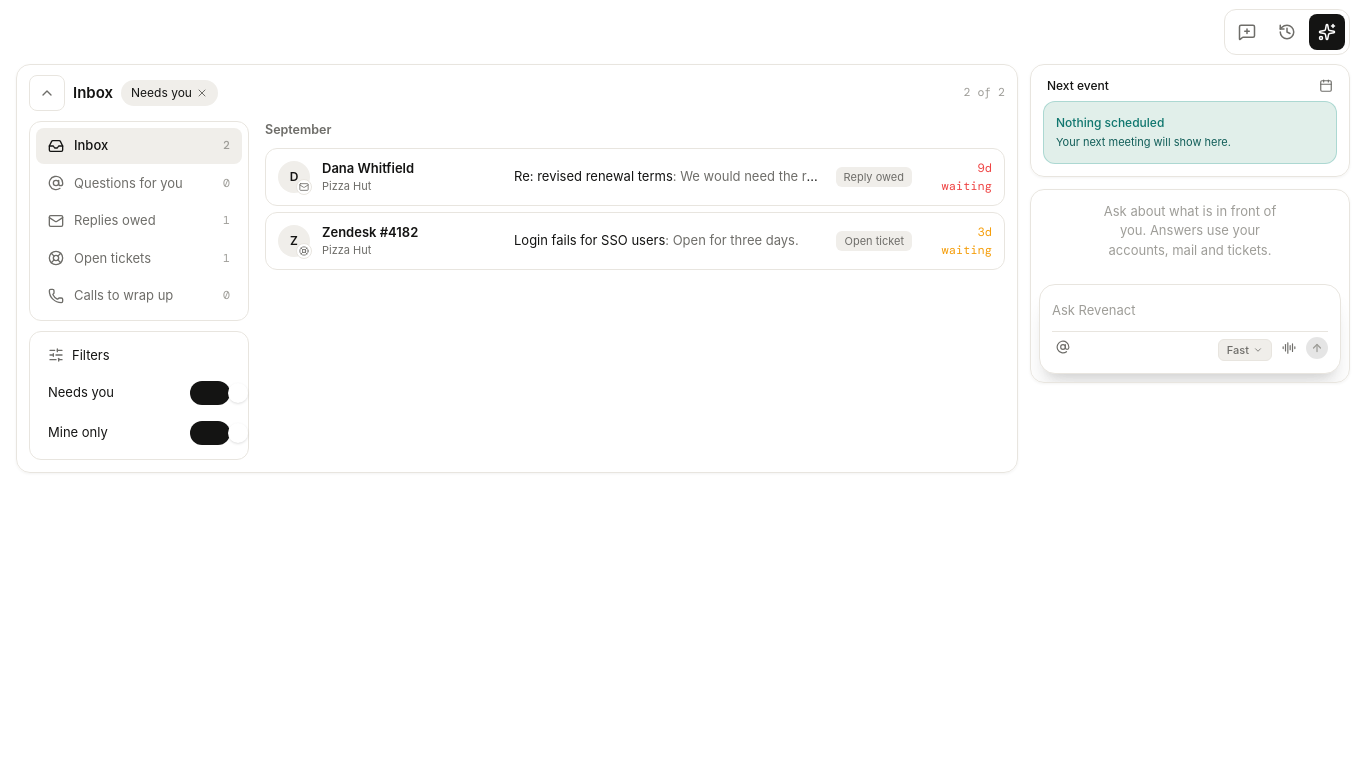
Test: CommunicationsPage › History opens as a panel of scheduled tasks and searchable, collapsible recents
Step 1. Click the button named "history" → (1287, 32), box [1269, 14, 1305, 50]
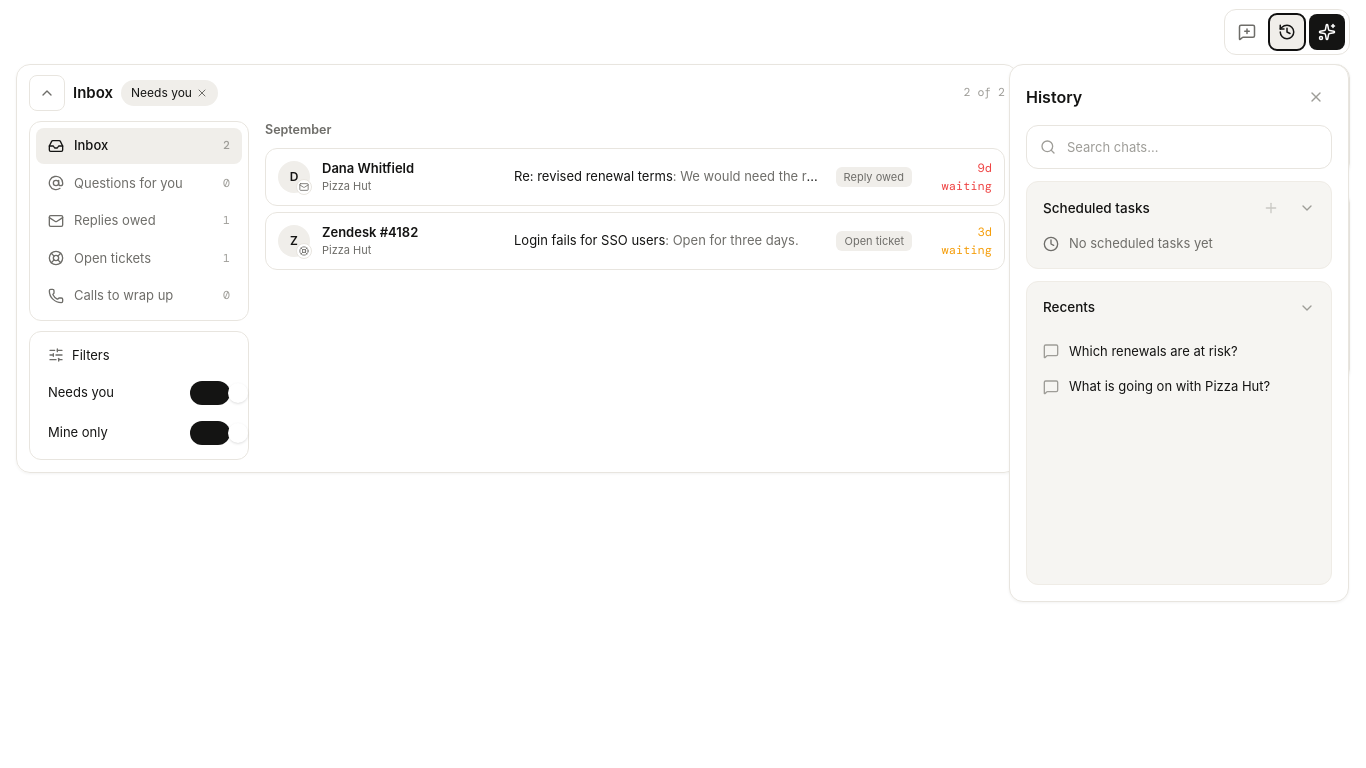
Expected: the text "No scheduled tasks yet" is shown, [1043, 235, 1213, 252]
Expected: the button named "new scheduled task" is disabled, [1255, 192, 1287, 224]
Expected: the text "Which renewals are at risk?" is shown, [1069, 342, 1238, 358]
Step 2. Type "pizza" into the search field with placeholder "Search chats…" → (1179, 147), box [1026, 125, 1332, 169]
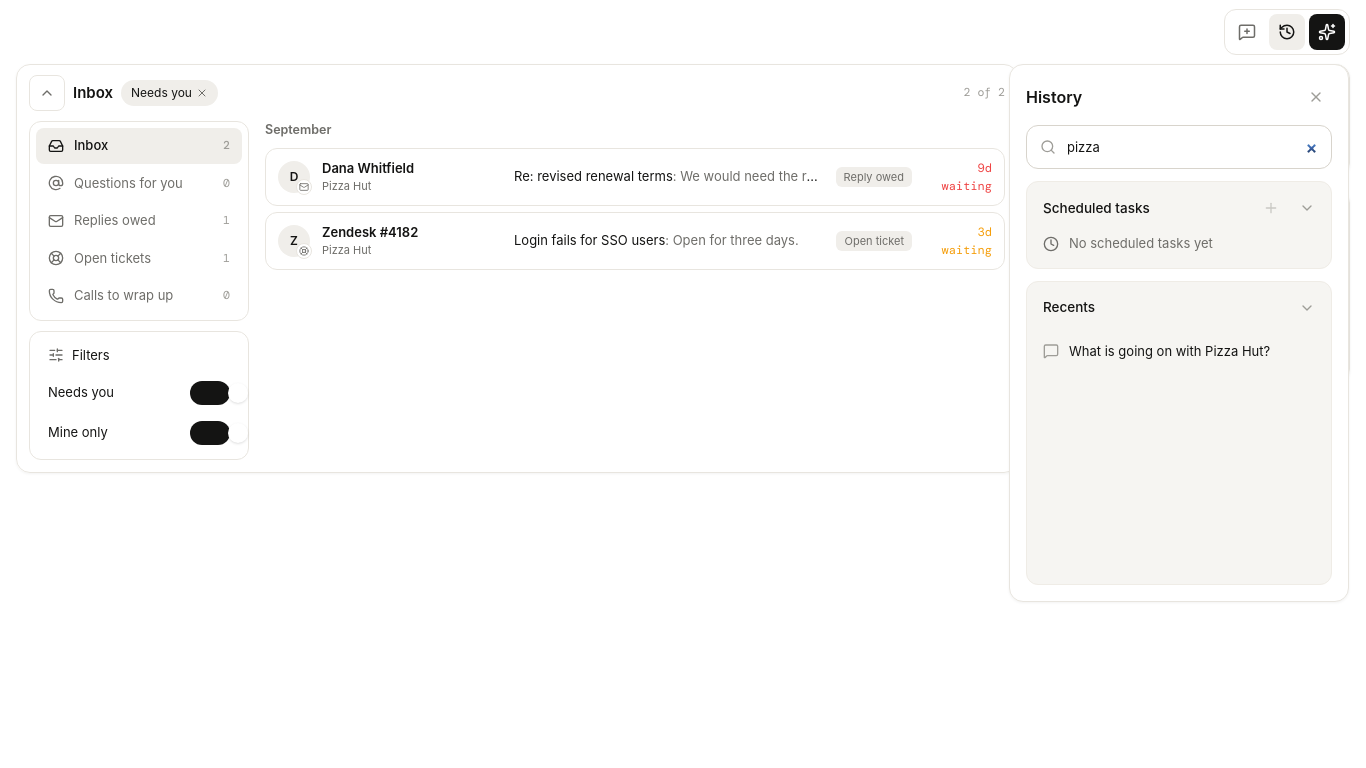
Expected: the text "What is going on with Pizza Hut?" is shown, [1069, 342, 1270, 358]
Expected: the button "Which renewals are at risk?" is gone
Step 3. Click the button named "collapse recents" → (1307, 308), box [1291, 292, 1323, 324]
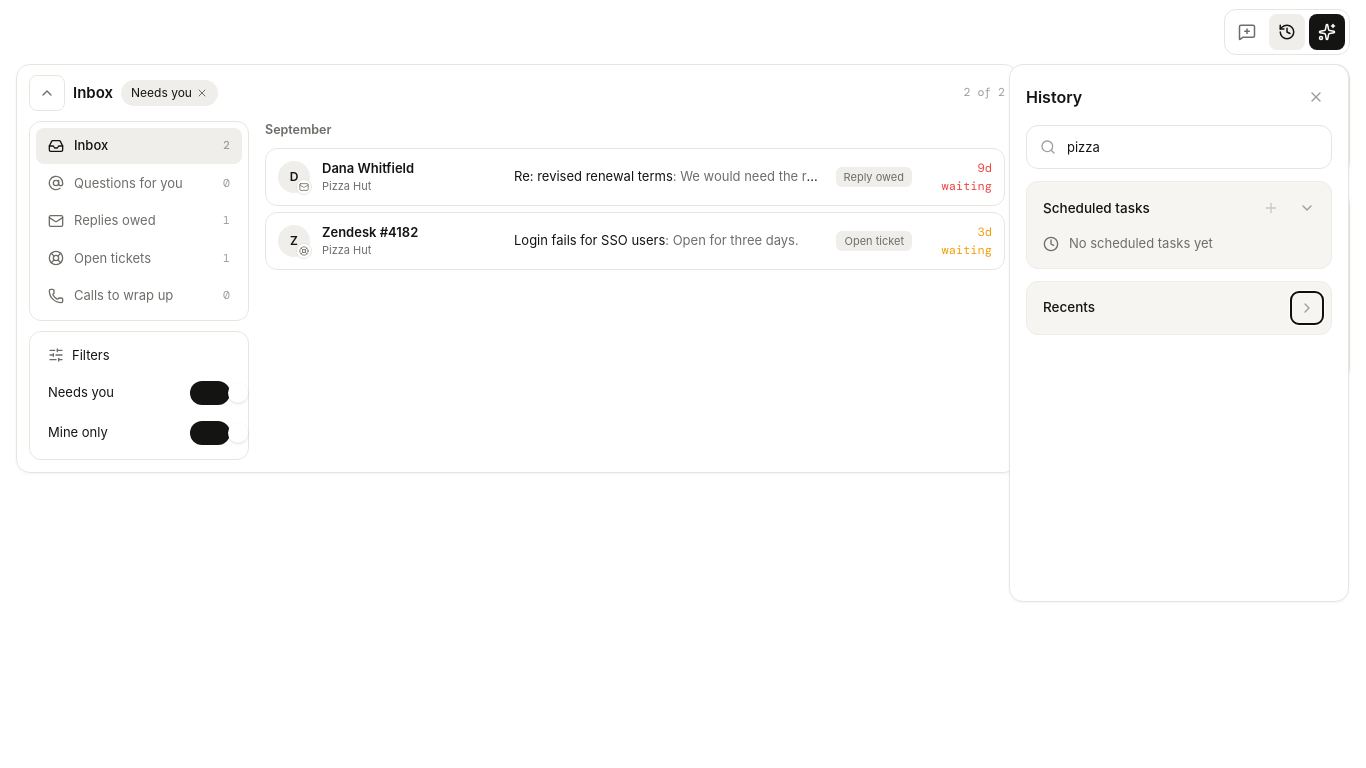
Expected: the button "What is going on with Pizza Hut?" is gone
Step 4. Click the button named "expand recents" → (1307, 308), box [1291, 292, 1323, 324]
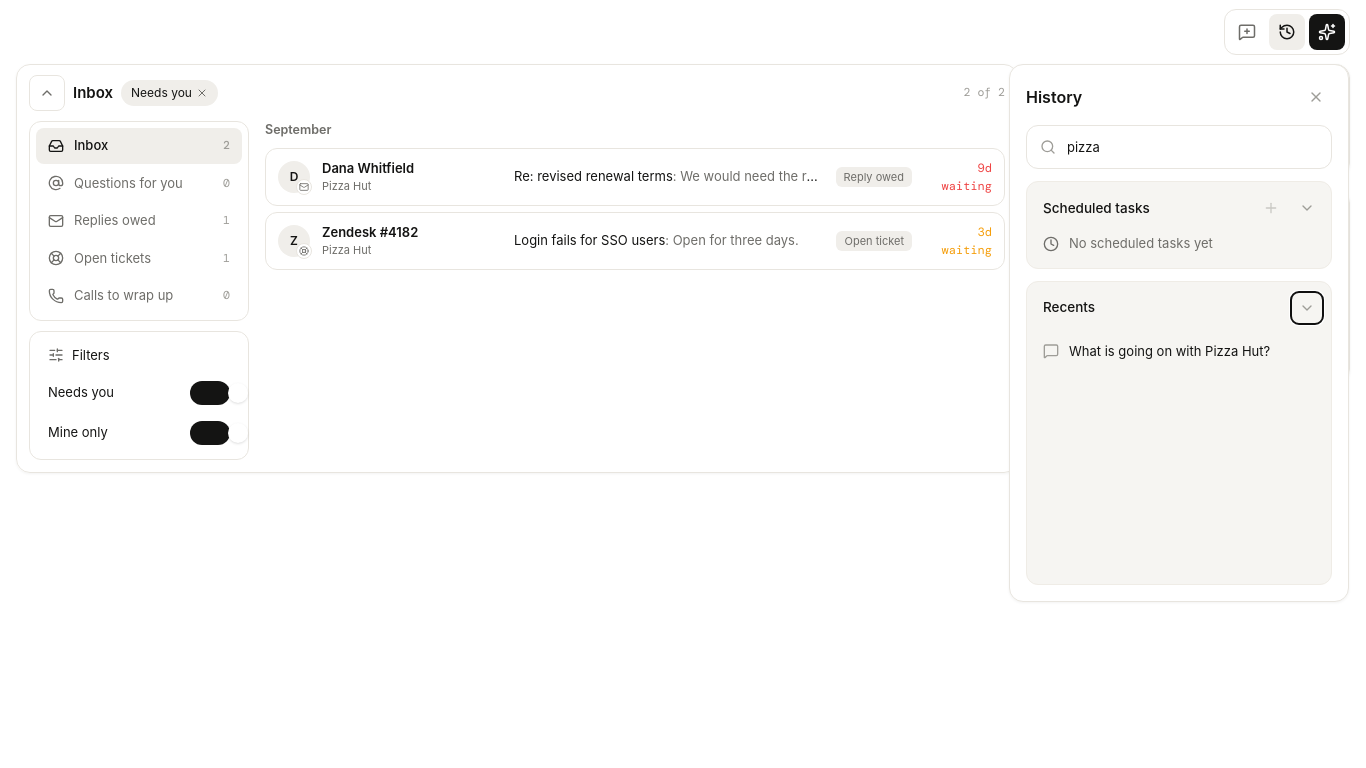
Expected: the text "What is going on with Pizza Hut?" is shown, [1069, 342, 1270, 358]
Step 5. Click the button named "close history" → (1316, 97), box [1300, 81, 1332, 113]
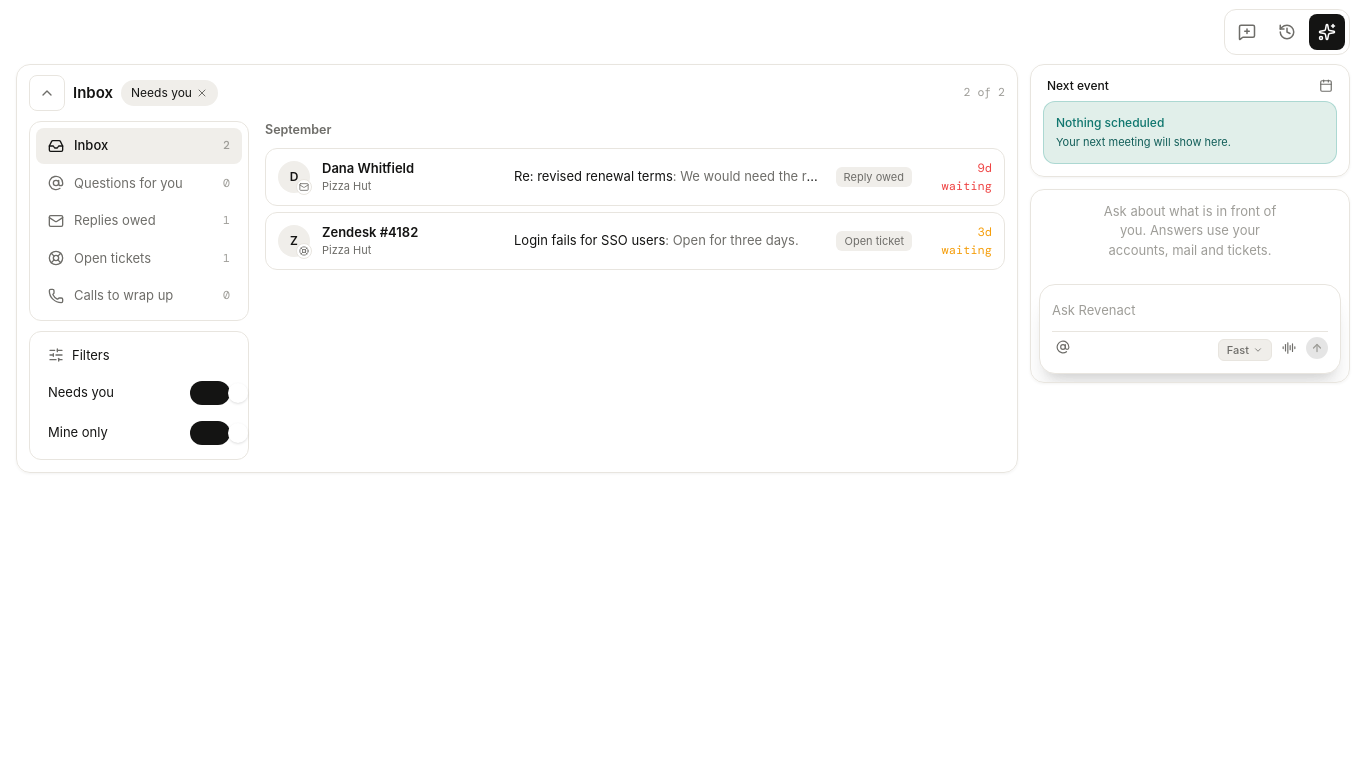
Expected: the heading "History" is gone
